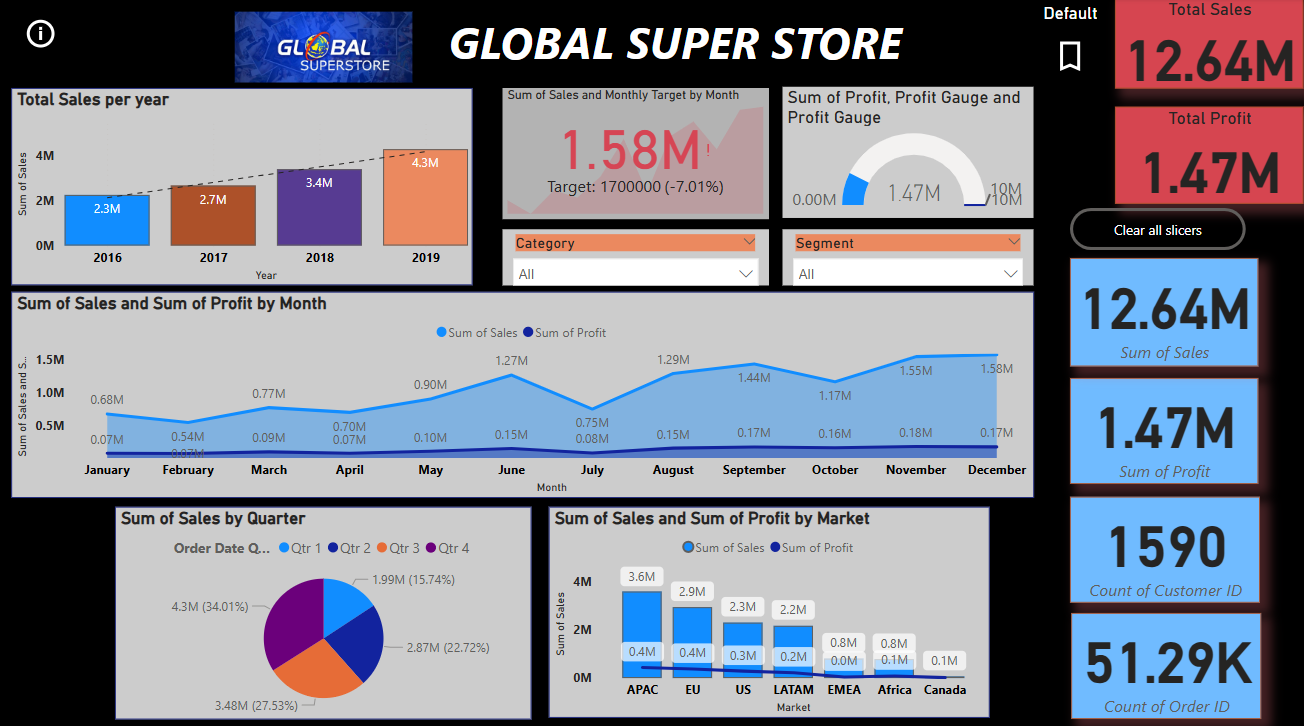

This screenshot's page, from the dashboard's own definition file:
{"tool":"powerbi","page":{"name":"Page 1","canvas":[1280,720],"ordinal":0},"visuals":[{"type":"textbox","box":[435,8.8,480,78.8],"z":0},{"type":"image","box":[218.4,8.6,198.8,79.8],"z":1000},{"type":"card","title":"Total Sales","fields":{"Values":["Sum(Orders.Sales)"]},"box":[1095,0,185,88.8],"z":2000},{"type":"card","fields":{"Values":["Sum(Orders.Profit)"]},"box":[1050,372.5,185,103.8],"z":3000},{"type":"card","title":"Total Customers","fields":{"Values":["Count(Orders.Customer ID)"]},"box":[1050,490,186.2,103.8],"z":4000},{"type":"card","fields":{"Values":["CountNonNull(Orders.Order ID)"]},"box":[1051.2,603.8,186.2,103.8],"z":5000},{"type":"clusteredColumnChart","title":"Total Sales per year","fields":{"Category":["Orders.Order Date.Variation.Date Hierarchy.Year"],"Y":["Sum(Orders.Sales)"]},"box":[11,88.3,452.8,193.9],"z":6000},{"type":"lineChart","fields":{"Category":["Orders.Order Date.Variation.Date Hierarchy.Month"],"Y":["Sum(Orders.Sales)","Sum(Orders.Profit)"]},"box":[11,288.3,1003.7,202.5],"z":7000},{"type":"lineClusteredColumnComboChart","fields":{"Category":["Orders.Market"],"Y":["Sum(Orders.Sales)"],"Y2":["Sum(Orders.Profit)"]},"box":[538.7,499.4,433.1,207.4],"z":8000},{"type":"pieChart","fields":{"Category":["Orders.Order Date.Variation.Date Hierarchy.Quarter"],"Y":["Sum(Orders.Sales)"]},"box":[112.9,499.4,408.6,208.6],"z":9000},{"type":"slicer","fields":{"Values":["Orders.Segment"]},"box":[767.5,227.5,246.2,55],"z":10000},{"type":"slicer","fields":{"Values":["Orders.Category"]},"box":[493.8,227.5,261.2,55],"z":11000},{"type":"card","title":"Sales","fields":{"Values":["Sum(Orders.Sales)"]},"box":[1050,255,185,106.2],"z":12000},{"type":"card","title":"Total Profit","fields":{"Values":["Sum(Orders.Profit)"]},"box":[1095,106.2,185,95],"z":13000},{"type":"kpi","fields":{"Indicator":["Sum(Orders.Sales)"],"TrendLine":["Orders.Order Date.Variation.Date Hierarchy.Month"],"Goal":["Orders.Monthly Target"]},"box":[493.8,88.8,261.2,128.8],"z":14000},{"type":"gauge","fields":{"Y":["Sum(Orders.Profit)"],"TargetValue":["Orders.Profit Gauge"],"MaxValue":["Orders.Profit Gauge"]},"box":[767.5,87.5,246.2,128.8],"z":15000},{"type":"actionButton","box":[1050,206.2,172.5,41.2],"z":16000},{"type":"actionButton","title":"Default","box":[1023.3,4.9,55.2,79.8],"z":17000},{"type":"actionButton","box":[13.5,8.6,99.4,52.8],"z":18000}]}

Visuals, with their boxes in screenshot pixels (x1, y1, x2, y2), scaled from the page's 1280x720 canvas onto the 1304x726 screenshot:
textbox: detection(443, 9, 932, 88)
image: detection(222, 9, 425, 89)
"Total Sales" card: detection(1116, 0, 1303, 90)
card - Sum(Orders.Profit): detection(1070, 376, 1258, 480)
"Total Customers" card: detection(1070, 494, 1259, 599)
card - CountNonNull(Orders.Order ID): detection(1071, 609, 1261, 713)
"Total Sales per year" clusteredColumnChart: detection(11, 89, 472, 285)
lineChart - Orders.Order Date.Variation.Date Hierarchy.Month x Sum(Orders.Sales): detection(11, 291, 1034, 495)
lineClusteredColumnComboChart - Orders.Market x Sum(Orders.Sales): detection(549, 504, 990, 713)
pieChart - Orders.Order Date.Variation.Date Hierarchy.Quarter x Sum(Orders.Sales): detection(115, 504, 531, 714)
slicer - Orders.Segment: detection(782, 229, 1033, 285)
slicer - Orders.Category: detection(503, 229, 769, 285)
"Sales" card: detection(1070, 257, 1258, 364)
"Total Profit" card: detection(1116, 107, 1303, 203)
kpi - Sum(Orders.Sales) x Orders.Order Date.Variation.Date Hierarchy.Month: detection(503, 90, 769, 219)
gauge - Sum(Orders.Profit) x Orders.Profit Gauge: detection(782, 88, 1033, 218)
actionButton: detection(1070, 208, 1245, 249)
"Default" actionButton: detection(1042, 5, 1099, 85)
actionButton: detection(14, 9, 115, 62)
